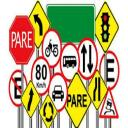NoEstacionar: (9, 68, 28, 108)
Pare: (7, 13, 36, 66)
Rotatoria: (39, 91, 60, 128)
speed_limit_80: (31, 55, 52, 97)
